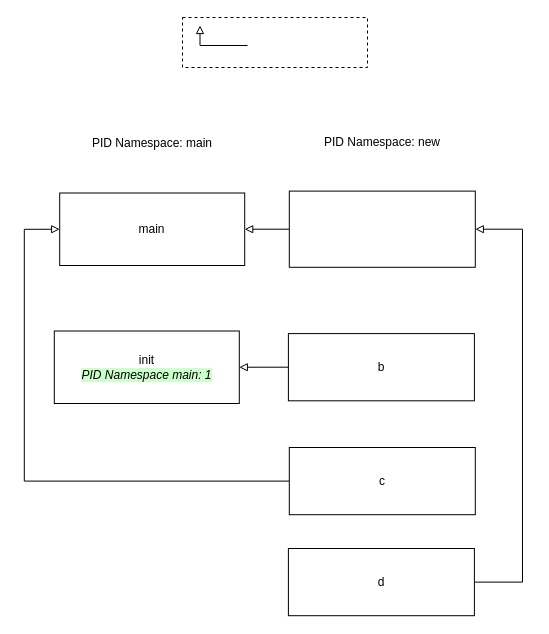
Some shapes in this 549 by 634 pixel diagram are drawn without their labels. The centre of each missing label's shape, as x and y in pixels:
a (init) PID Namespace new: 1: the point at 381,228
parent proccess: the point at 275,42
